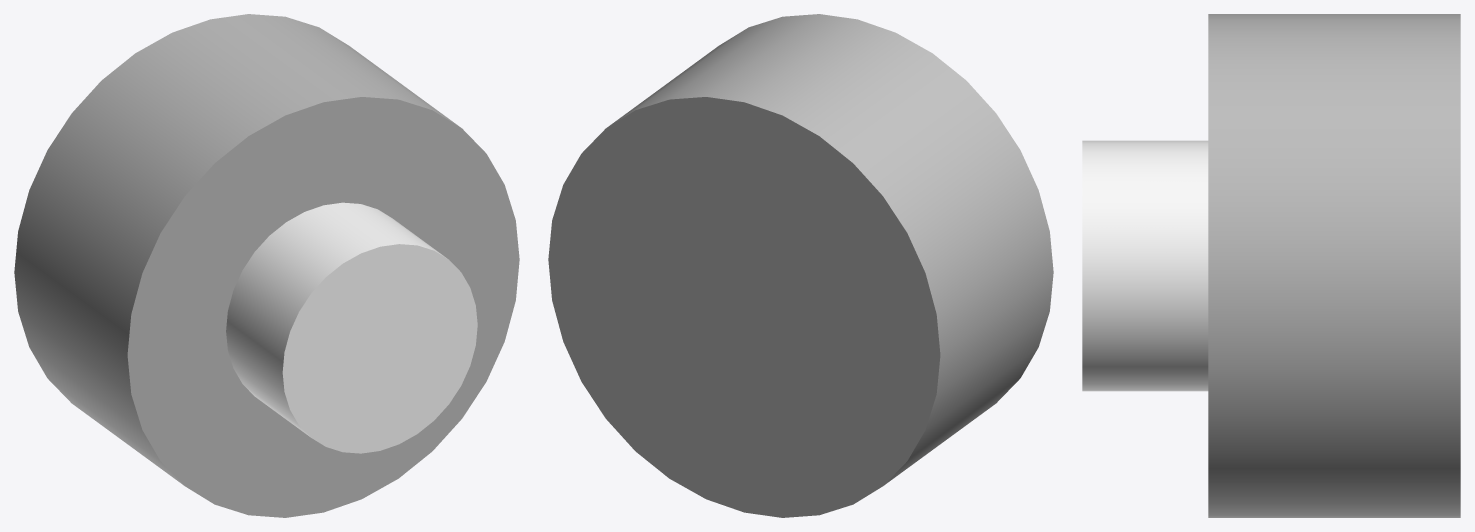
File: miner.obj
3 views of the same model, side by side, from view 1: azimuth 30°, elevation 25°; view 2: azimuth 150°, elevation 25°; view 3: azimuth 270°, elevation 25° (orthographic). The views are drawn at different scales.
Parts seen in each view (by area): view 1: miner; view 2: miner; view 3: miner.
Boxes of the visible parts, x1=… form: miner: x1=14, y1=14, x2=519, y2=517; miner: x1=548, y1=14, x2=1053, y2=517; miner: x1=1082, y1=14, x2=1460, y2=517.
Size of the model in its own units: 2 by 2 by 1.5.
Materials: 1 (1 with a texture image).
